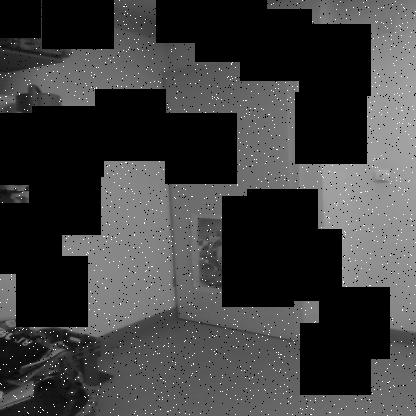Porte: (158, 49, 307, 346)
